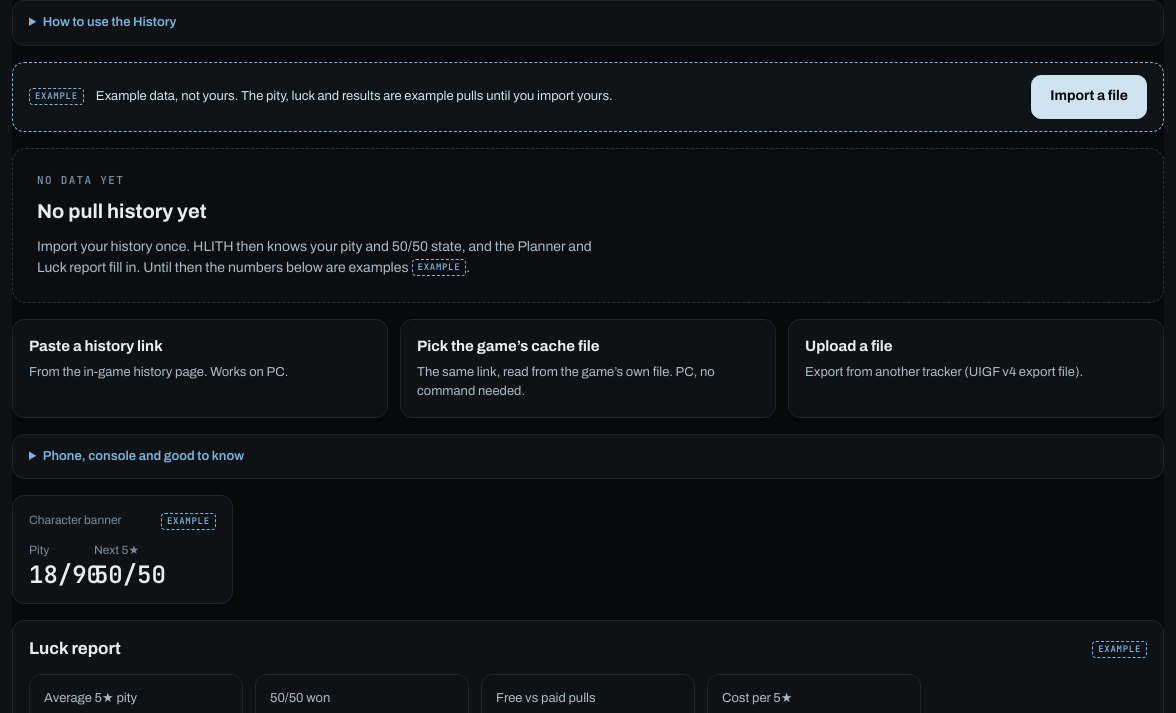
Test case: Pulls screen › History offers the link, the cache file and export files, each with its own guide
This screenshot has width=1176, height=713.
Expected: the heading "No pull history yet" is shown, x1=37 y1=196 x2=207 y2=226
Click the button "Upload a file" at (976, 368), box x1=788 y1=318 x2=1164 y2=418
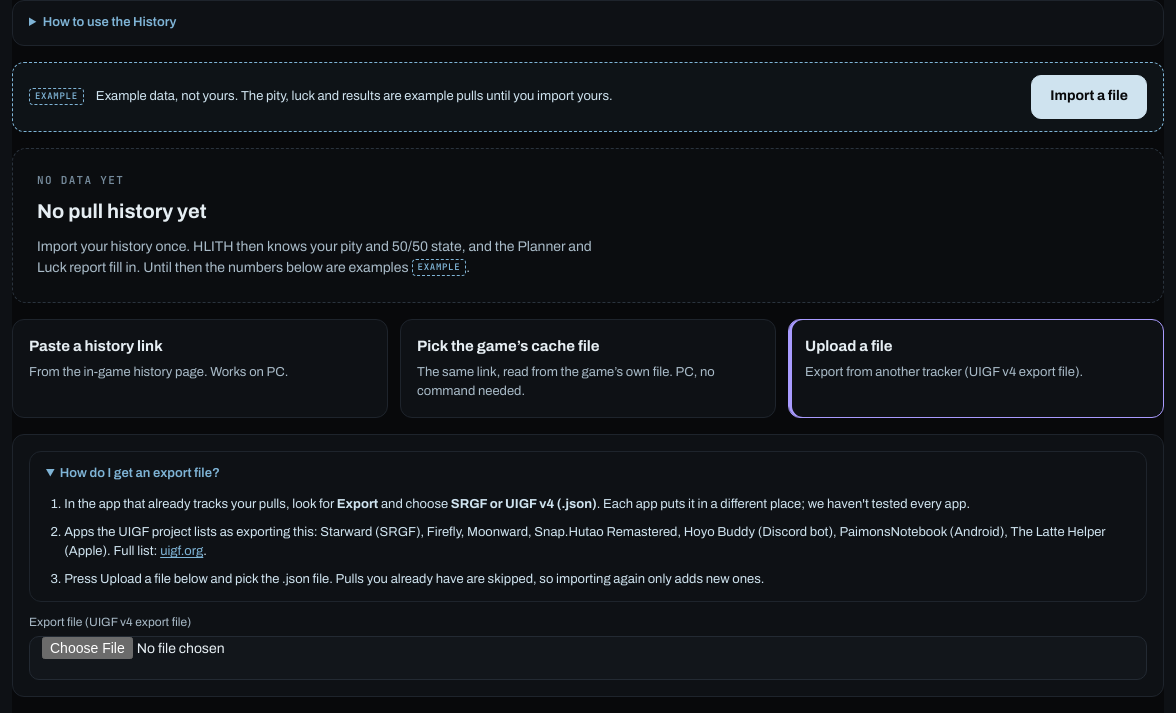
Expected: the heading "How do I get an export file?" is shown, x1=60 y1=466 x2=220 y2=480
Expected: the file field labelled "Export file (UIGF v4 export file)" is shown, x1=29 y1=636 x2=1147 y2=680
Click the button "Pick the game’s cache file" at (588, 368), box x1=400 y1=318 x2=776 y2=418
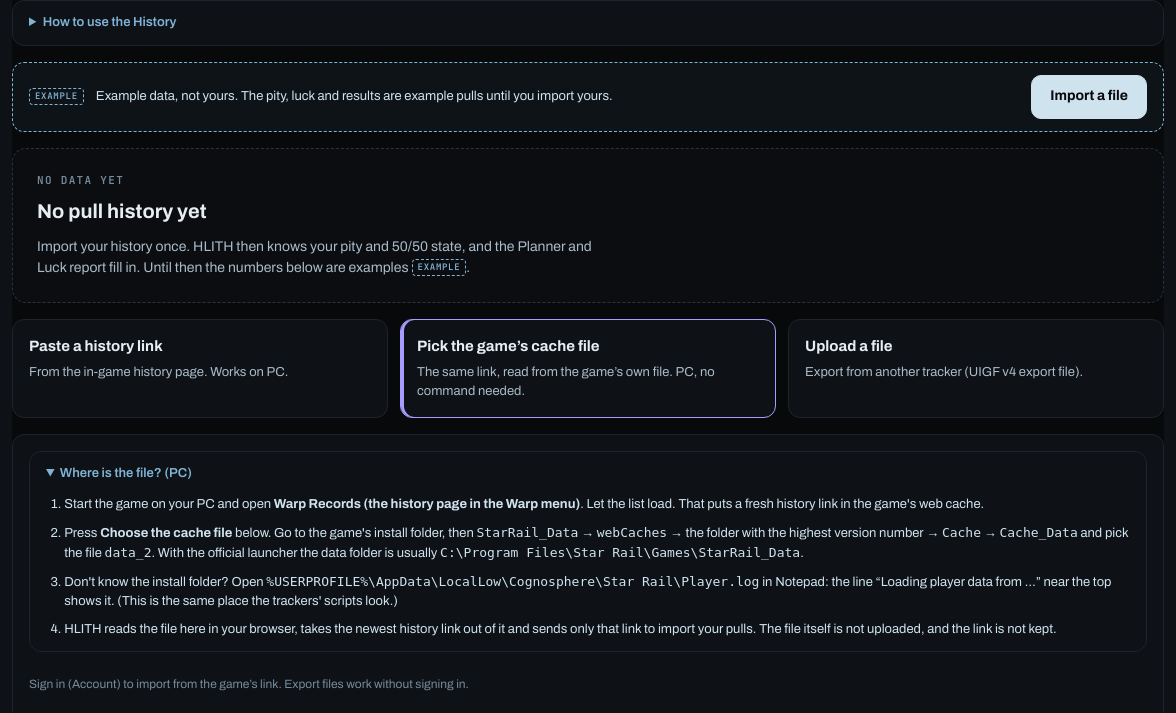
Expected: the text "Sign in (Account) to import from the game’s link" is shown, x1=29 y1=677 x2=469 y2=691
